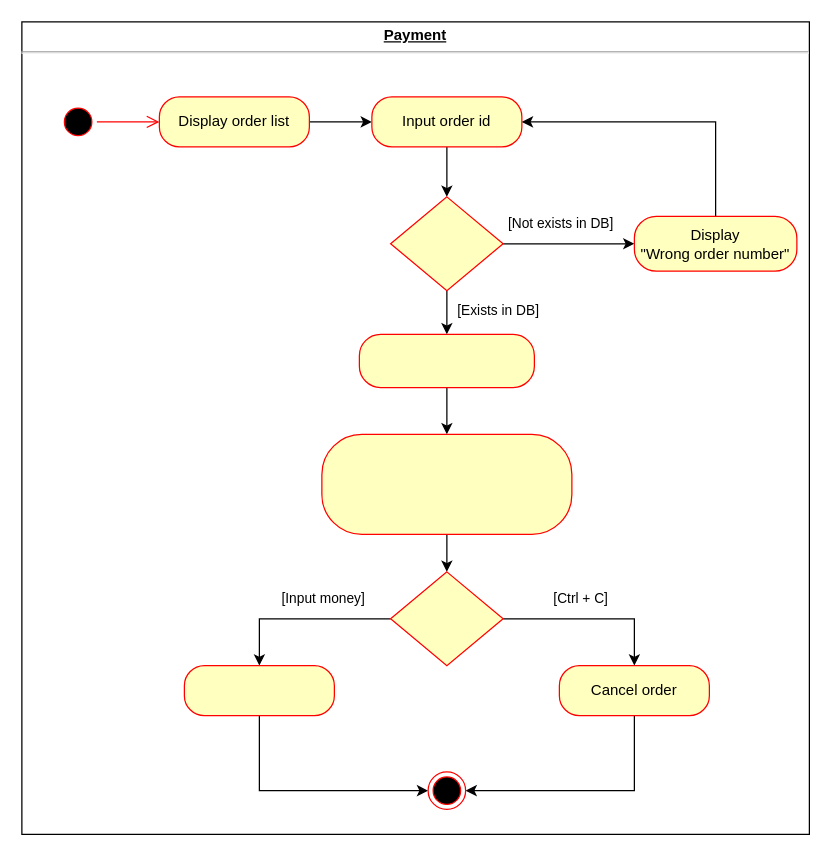
This 831x856 diagram has some shape labels left out. The centre of each missing label's shape, as x and y in pixels:
Display "PAYMENT(press ENTER to continue) or Ctrl + C to cancel order": point 446,483
Print invoice: point 258,690
Show order and the total to pay: point 446,360
